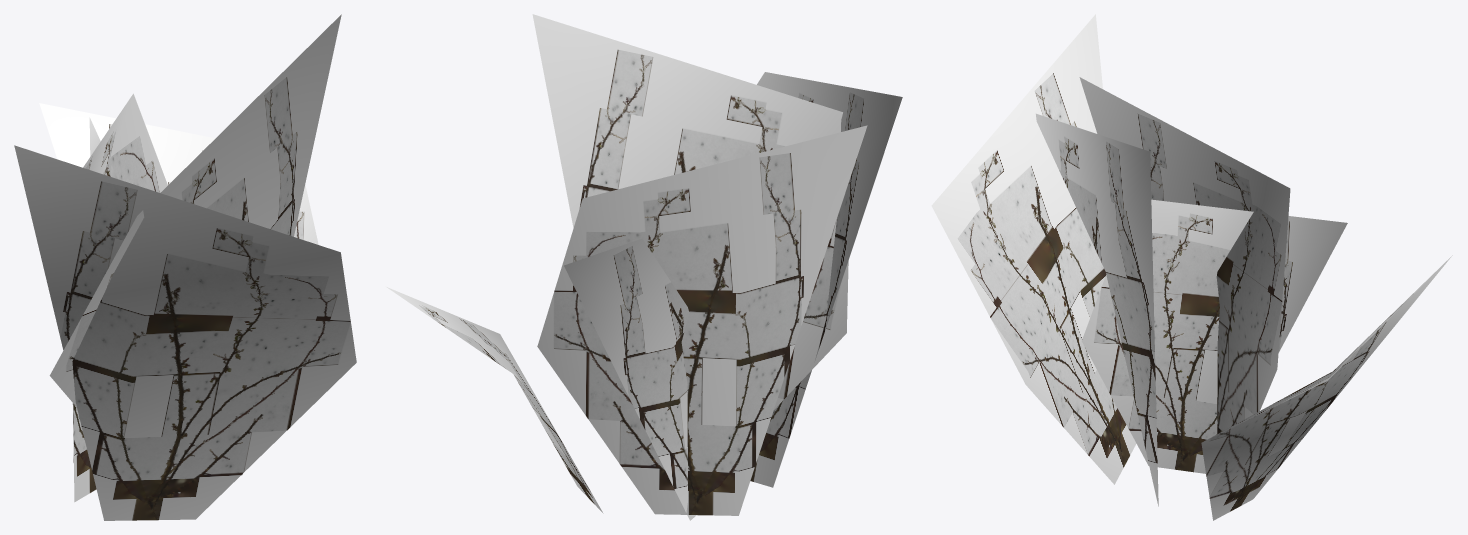
Rendered from Bush1.fbx.
The picture shows the model from 3 angles, left to right: view 1: azimuth 30°, elevation 25°; view 2: azimuth 150°, elevation 25°; view 3: azimuth 270°, elevation 25°; orthographic projection. The views are drawn at different scales.
Parts seen in each view (by area): view 1: LOD0; view 2: LOD0; view 3: LOD0.
Part boxes in pixels (bbox=[...]): LOD0: bbox=[14, 14, 356, 520]; LOD0: bbox=[386, 14, 902, 520]; LOD0: bbox=[931, 14, 1452, 520].
Size of what is drawn, in the model's own units: 176 by 186 by 213.
